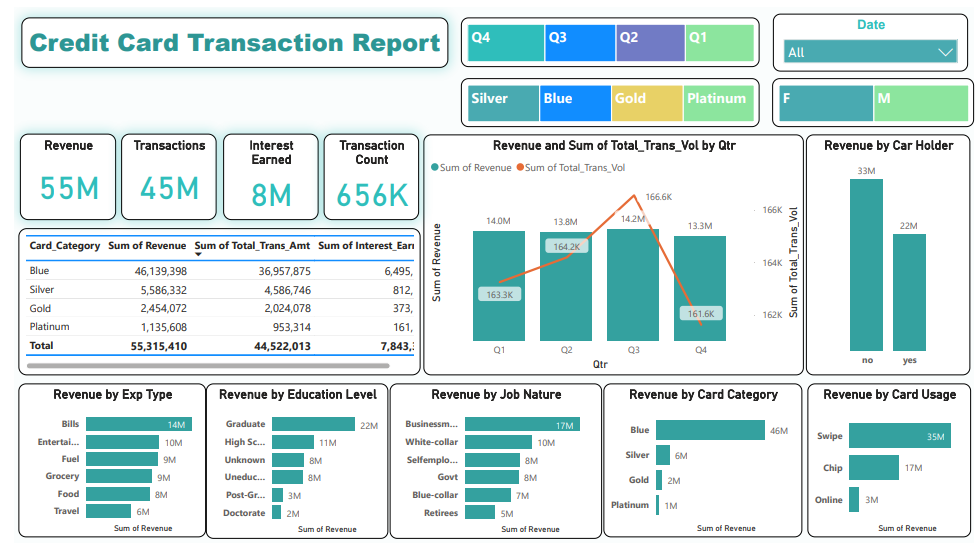

The dashboard page shown, as its layout file describes it:
{"tool":"powerbi","page":{"name":"C. Card Transaction","canvas":[1280,720],"ordinal":0},"visuals":[{"type":"textbox","box":[9.9,14.1,568.6,66.5],"z":0},{"type":"lineStackedColumnComboChart","title":"Revenue and Sum of Total_Trans_Vol by Qtr","fields":{"Category":["credit_card.Qtr"],"Y":["Sum(credit_card.Revenue)"],"Y2":["Sum(credit_card.Total_Trans_Vol)"]},"box":[546.1,169.6,507.3,321.9],"z":1000},{"type":"barChart","title":"Revenue by Exp Type","fields":{"Y":["Sum(credit_card.Revenue)"],"Category":["credit_card.Exp Type"]},"box":[5.7,502.2,250.4,205.1],"z":2000},{"type":"barChart","title":"Revenue by Education Level","fields":{"Y":["Sum(credit_card.Revenue)"],"Category":["customer.Education_Level"]},"box":[256,502.2,243.3,206.5],"z":3000},{"type":"barChart","title":"Revenue by Job Nature ","fields":{"Y":["Sum(credit_card.Revenue)"],"Category":["customer.Customer_Job"]},"box":[500.7,502.2,282.9,206.5],"z":4000},{"type":"barChart","title":"Revenue by Card Category","fields":{"Y":["Sum(credit_card.Revenue)"],"Category":["credit_card.Card_Category"]},"box":[786.5,502.2,264.5,205.1],"z":5000},{"type":"barChart","title":"Revenue by Card Usage","fields":{"Y":["Sum(credit_card.Revenue)"],"Category":["credit_card.Use Chip"]},"box":[1057.7,501.6,218.4,205.5],"z":6000},{"type":"pivotTable","fields":{"Rows":["credit_card.Card_Category"],"Values":["Sum(credit_card.Revenue)","Sum(credit_card.Total_Trans_Amt)","Sum(credit_card.Interest_Earned)"]},"box":[5.7,294.6,536,196.9],"z":7000},{"type":"card","title":"Revenue","fields":{"Values":["Sum(credit_card.Revenue)"]},"box":[8.5,169.4,127.3,114.6],"z":8000},{"type":"card","title":"Transactions","fields":{"Values":["Sum(credit_card.Total_Trans_Amt)"]},"box":[142.8,169.4,127.3,114.6],"z":9000},{"type":"card","title":"Interest Earned","fields":{"Values":["Sum(credit_card.Interest_Earned)"]},"box":[278.6,169.4,127.3,114.6],"z":10000},{"type":"card","title":"Transaction Count","fields":{"Values":["Sum(credit_card.Total_Trans_Vol)"]},"box":[413,169.4,127.3,114.6],"z":11000},{"type":"slicer","title":"Date","fields":{"Values":["credit_card.Week_Start_Date"]},"box":[1011.7,8.6,260.1,77.6],"z":12000},{"type":"treemap","fields":{"Group":["credit_card.Qtr"],"Values":["Avg(credit_card.Client_Num)"]},"box":[596.4,14.4,398.1,66.1],"z":13000},{"type":"treemap","fields":{"Values":["Avg(credit_card.Client_Num)"],"Group":["credit_card.Card_Category"]},"box":[596.4,94.9,398.1,64.7],"z":14000},{"type":"treemap","fields":{"Values":["Avg(credit_card.Client_Num)"],"Group":["customer.Gender"]},"box":[1011.2,94.9,268.7,64.7],"z":15000},{"type":"clusteredColumnChart","title":"Revenue by Car Holder","fields":{"Category":["customer.Car_Owner"],"Y":["Sum(credit_card.Revenue)"]},"box":[1056.3,169.6,218.4,321.9],"z":16000}]}

Visuals, with their boxes in screenshot pixels (x1, y1, x2, y2), scaled from the page's 1280x720 canvas onto the 977x543 screenshot:
textbox: bbox=[8, 11, 442, 61]
"Revenue and Sum of Total_Trans_Vol by Qtr" lineStackedColumnComboChart: bbox=[417, 128, 804, 371]
"Revenue by Exp Type" barChart: bbox=[4, 379, 195, 533]
"Revenue by Education Level" barChart: bbox=[195, 379, 381, 534]
"Revenue by Job Nature " barChart: bbox=[382, 379, 598, 534]
"Revenue by Card Category" barChart: bbox=[600, 379, 802, 533]
"Revenue by Card Usage" barChart: bbox=[807, 378, 974, 533]
pivotTable - credit_card.Card_Category x Sum(credit_card.Revenue): bbox=[4, 222, 413, 371]
"Revenue" card: bbox=[6, 128, 104, 214]
"Transactions" card: bbox=[109, 128, 206, 214]
"Interest Earned" card: bbox=[213, 128, 310, 214]
"Transaction Count" card: bbox=[315, 128, 412, 214]
"Date" slicer: bbox=[772, 6, 971, 65]
treemap - credit_card.Qtr x Avg(credit_card.Client_Num): bbox=[455, 11, 759, 61]
treemap - Avg(credit_card.Client_Num) x credit_card.Card_Category: bbox=[455, 72, 759, 120]
treemap - Avg(credit_card.Client_Num) x customer.Gender: bbox=[772, 72, 976, 120]
"Revenue by Car Holder" clusteredColumnChart: bbox=[806, 128, 973, 371]
